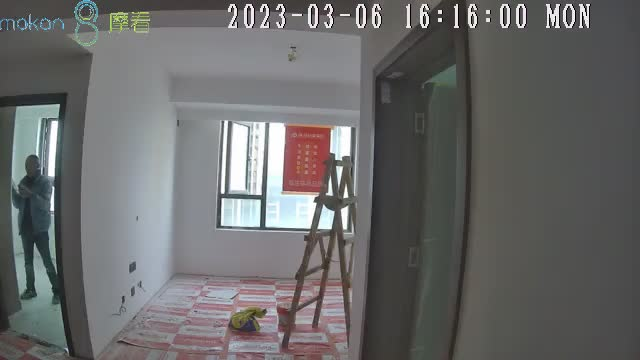people: (14, 155, 58, 304)
window: (217, 119, 355, 232)
